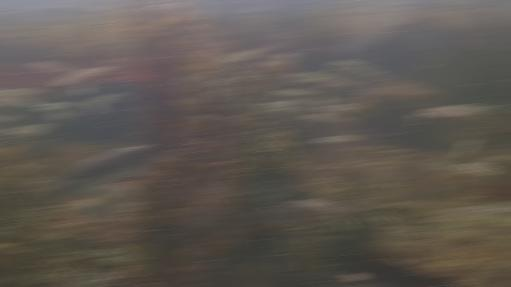Fish: (51, 145, 150, 201), (68, 184, 139, 224), (54, 68, 117, 85), (86, 92, 129, 116), (423, 105, 498, 117), (334, 60, 381, 78), (0, 88, 46, 106), (221, 48, 268, 62), (292, 199, 343, 211), (6, 123, 51, 136), (257, 98, 300, 111), (457, 163, 500, 175), (307, 113, 356, 123), (453, 205, 510, 213), (426, 161, 465, 172), (31, 62, 70, 73), (324, 76, 361, 87), (455, 139, 478, 156), (286, 73, 329, 82), (35, 102, 78, 111), (314, 96, 335, 114), (471, 155, 508, 165), (0, 88, 46, 96), (315, 135, 360, 143), (50, 109, 73, 124), (268, 53, 297, 64), (257, 42, 292, 51), (273, 89, 318, 96), (328, 104, 365, 112), (10, 96, 39, 106), (268, 31, 293, 40), (206, 89, 229, 97), (411, 113, 426, 125), (0, 115, 20, 124), (207, 78, 228, 86), (74, 83, 89, 94), (0, 98, 17, 106), (223, 116, 242, 122), (191, 115, 212, 120)
